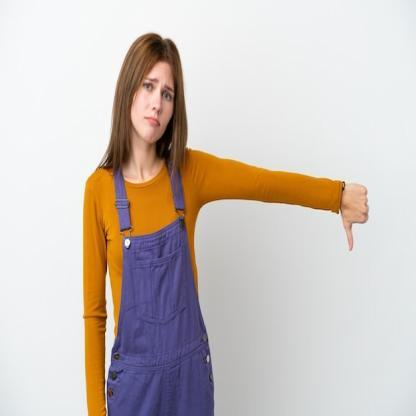thumb_down: (341, 178, 370, 254)
